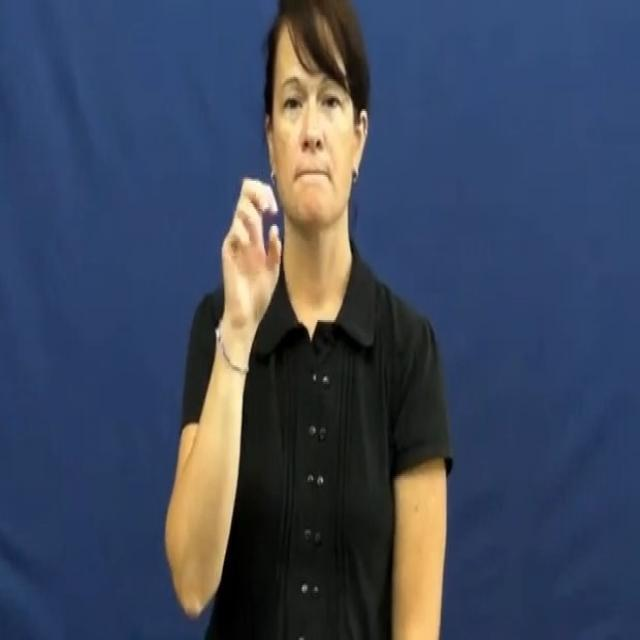menu: (211, 170, 292, 360)
